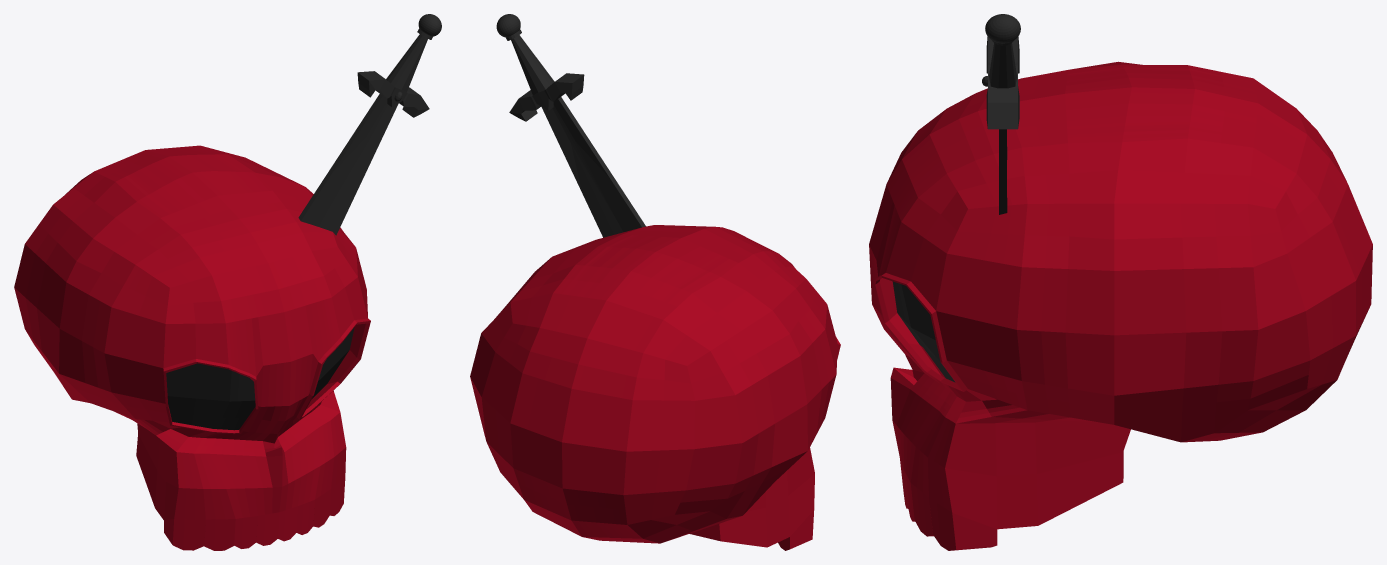
File: umbral.fbx
3 views of the same model, side by side, from view 1: azimuth 30°, elevation 25°; view 2: azimuth 150°, elevation 25°; view 3: azimuth 270°, elevation 25° (orthographic). The views are drawn at different scales.
Parts seen in each view (by area): view 1: umbral; view 2: umbral; view 3: umbral.
Part boxes in pixels (left/top/right/bottom): umbral: left=14, top=14, right=441, bottom=550; umbral: left=470, top=14, right=840, bottom=550; umbral: left=869, top=14, right=1372, bottom=550.
Bounding box in the file's own units: 277 × 356 × 267.
